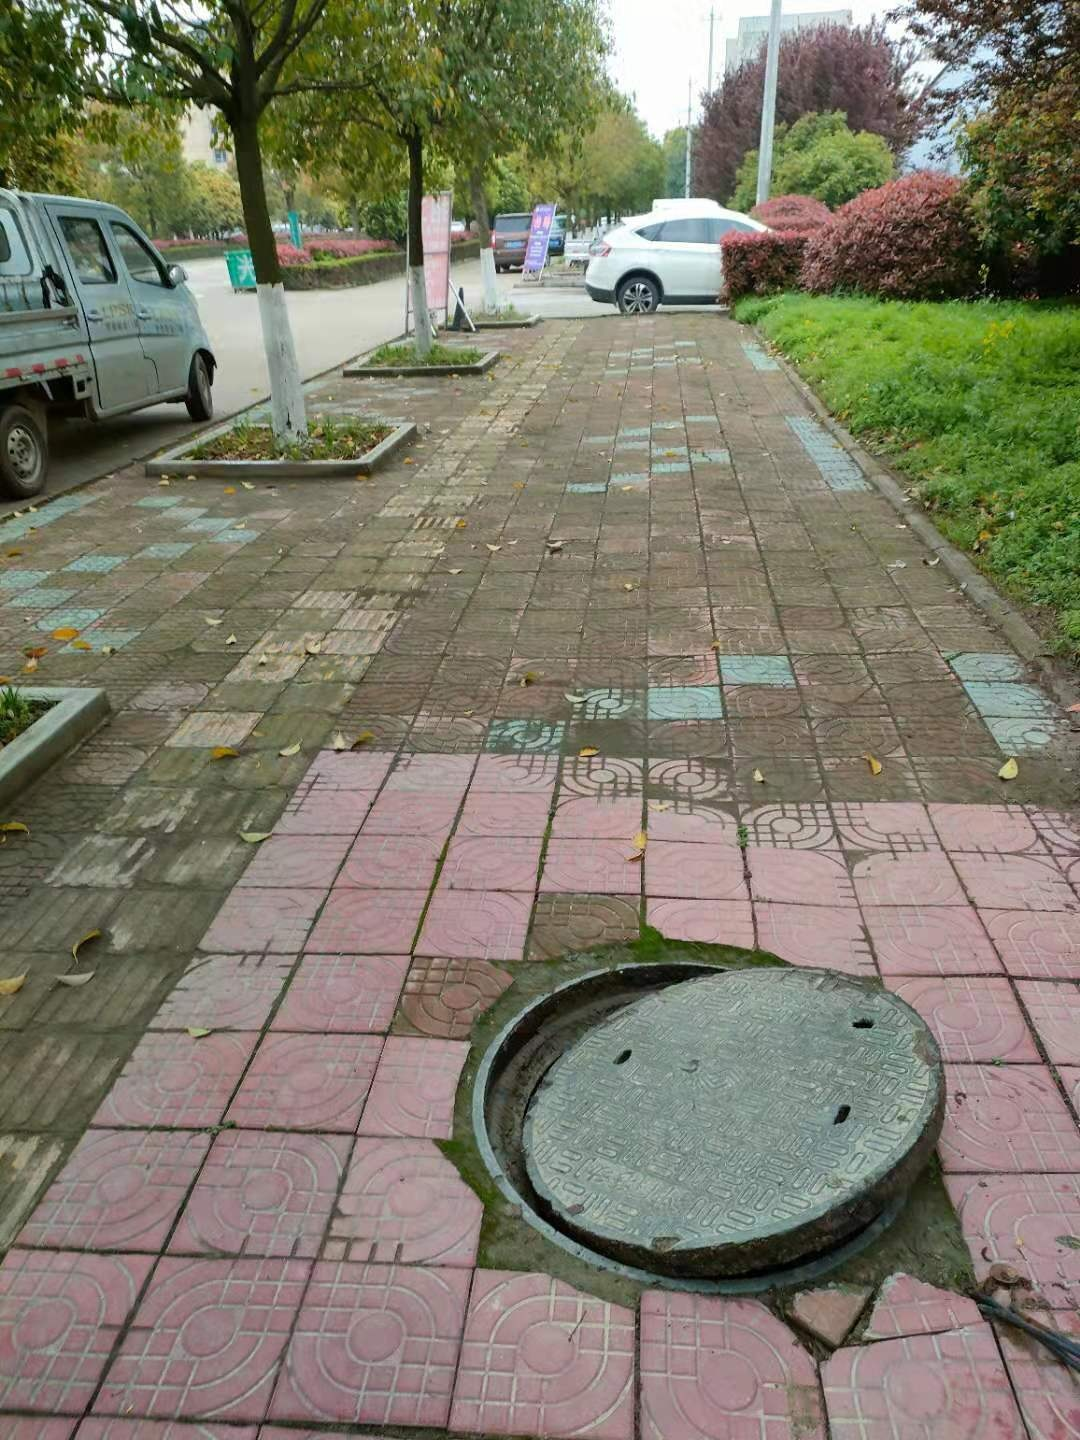uncovered: (470, 959, 952, 1301)
